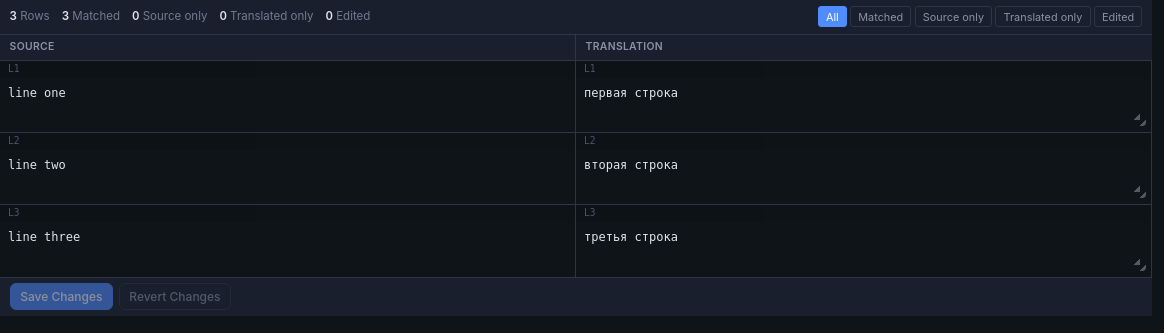
Test: PairLineEditorPanel › revert › Revert Changes restores all translation values
// Edit two rows
Step 1. Replace the text in the text box in the row of "line one" with "modified 1" → (864, 105), box [576,78,1151,132]
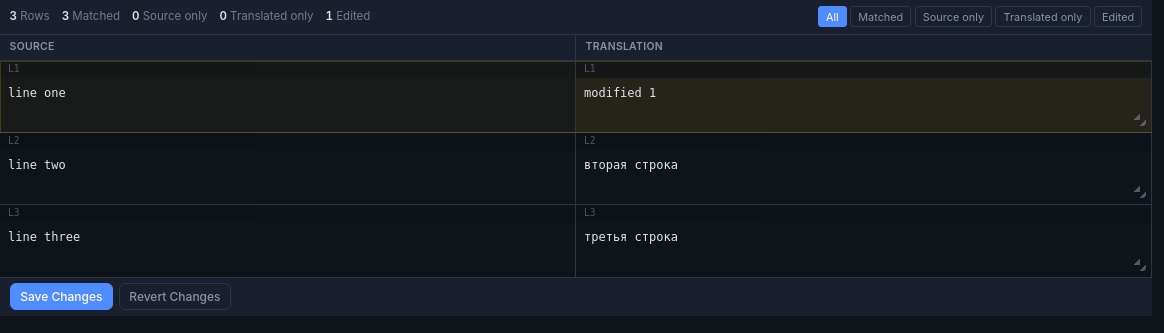
Step 2. Replace the text in the text box in the row of "line two" with "modified 2" → (864, 177), box [576,150,1151,204]
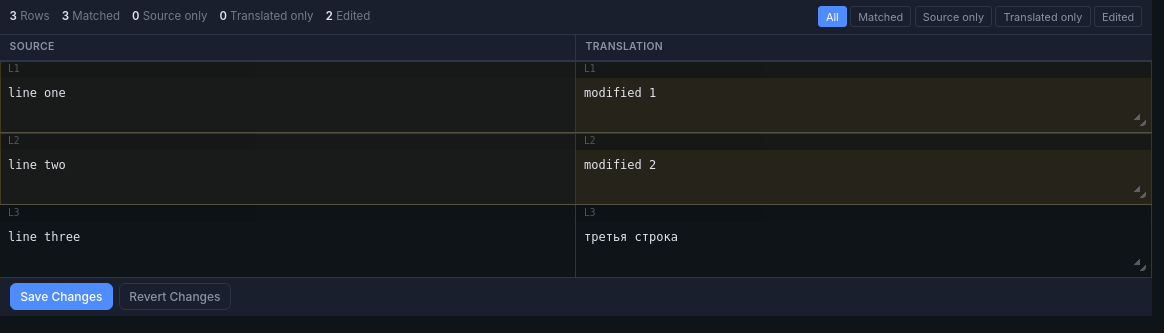
Now the button "Save Changes" is enabled, box [10,283,113,310]
// Click Revert Changes
Step 3. Click the button "Revert Changes" → (175, 297), box [119,283,231,310]
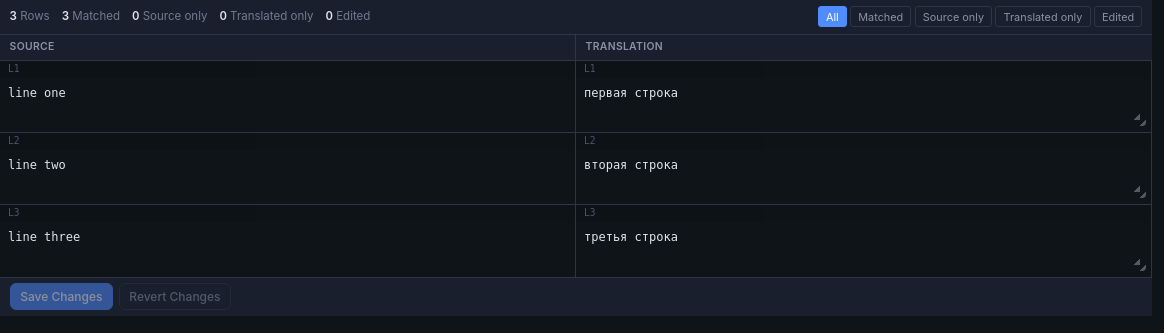
Now the text box in the row of "line one" holds "первая строка", box [576,78,1151,132]
Now the text box in the row of "line two" holds "вторая строка", box [576,150,1151,204]
Now the button "Save Changes" is disabled, box [10,283,113,310]
